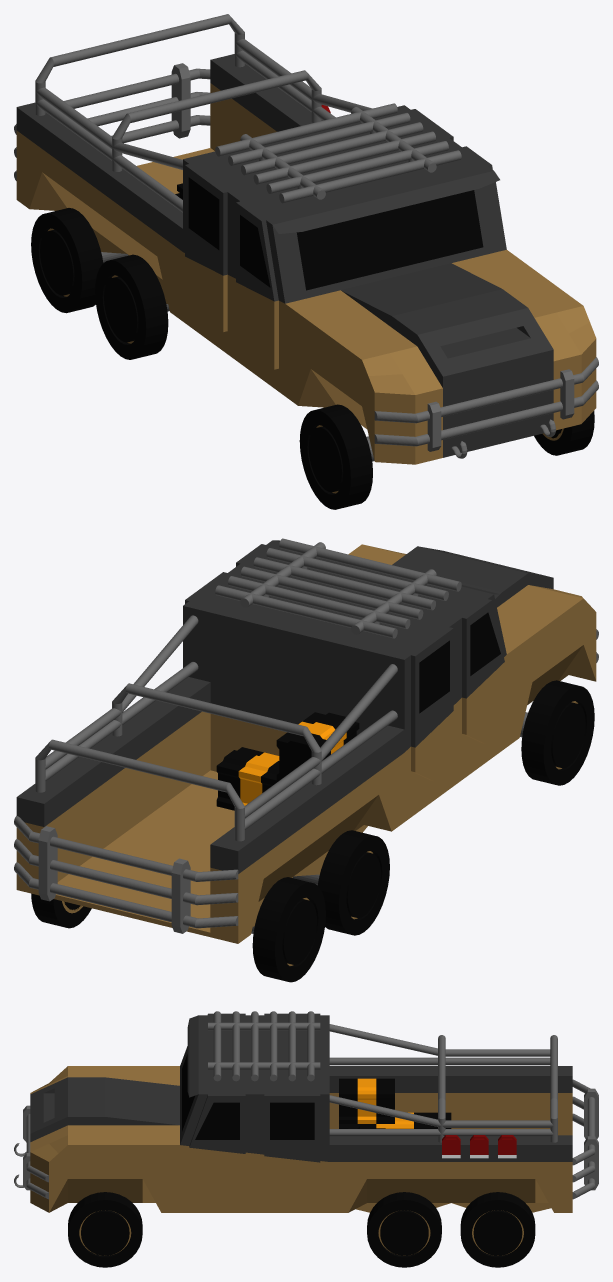
The model's file is humC.fbx.
3 renders of one model, top to bottom at view 1: azimuth 30°, elevation 25°; view 2: azimuth 150°, elevation 25°; view 3: azimuth 270°, elevation 25°, orthographic. The views are drawn at different scales.
Visible parts, largest first — view 1: Cube, Cube.001, Cube.002, Cube.061, Cube.003, Cube.033, Cylinder.011, Cylinder, Cylinder.012, Cube.032, Cube.034, Cube.030 (+33 smaller); view 2: Cube.002, Cube.004, Cube.003, Cube, Plane.001, Cube.033, Cube.034, Cube.032, Cylinder, Cylinder.012, Cylinder.011, Cube.001 (+34 smaller); view 3: Cube, Cube.002, Cube.003, Cube.001, Cube.033, Cube.034, Plane, Cube.032, Cylinder.017, Cylinder.005, Cylinder.006, Cube.029 (+33 smaller).
Boxes of the visible parts, box(x1,y1,x2,y2) form: Cube: box(285, 249, 596, 464); Cube.001: box(341, 263, 553, 457); Cube.002: box(183, 105, 506, 303); Cube.061: box(296, 190, 483, 290); Cube.003: box(16, 130, 182, 321); Cube.033: box(16, 102, 182, 251); Cylinder.011: box(95, 254, 168, 359); Cylinder: box(299, 404, 372, 509); Cylinder.012: box(31, 208, 103, 313); Cube.032: box(183, 252, 285, 395); Cube.034: box(210, 54, 322, 131); Cube.030: box(236, 282, 278, 369); Cube.002: box(183, 540, 506, 751); Cube.004: box(54, 770, 367, 936); Cube.003: box(16, 753, 404, 943); Cube: box(348, 544, 596, 746); Plane.001: box(45, 711, 210, 881); Cube.033: box(210, 725, 404, 873); Cube.034: box(16, 677, 210, 826); Cube.032: box(210, 655, 506, 821); Cylinder: box(521, 680, 594, 785); Cylinder.012: box(252, 877, 325, 982); Cylinder.011: box(317, 830, 389, 935); Cube.001: box(392, 546, 553, 607); Cube: box(30, 1066, 179, 1212); Cube.002: box(180, 1015, 329, 1161); Cube.003: box(329, 1162, 572, 1212); Cube.001: box(30, 1077, 179, 1141); Cube.033: box(329, 1066, 572, 1092); Cube.034: box(329, 1135, 572, 1161); Plane: box(329, 1093, 572, 1135); Cube.032: box(180, 1145, 329, 1212); Cylinder.017: box(460, 1192, 535, 1267); Cylinder.005: box(68, 1192, 142, 1267); Cylinder.006: box(367, 1192, 441, 1267); Cube.029: box(189, 1147, 245, 1197).
Bounding box in the file's own units: 550 × 535 × 1564.
